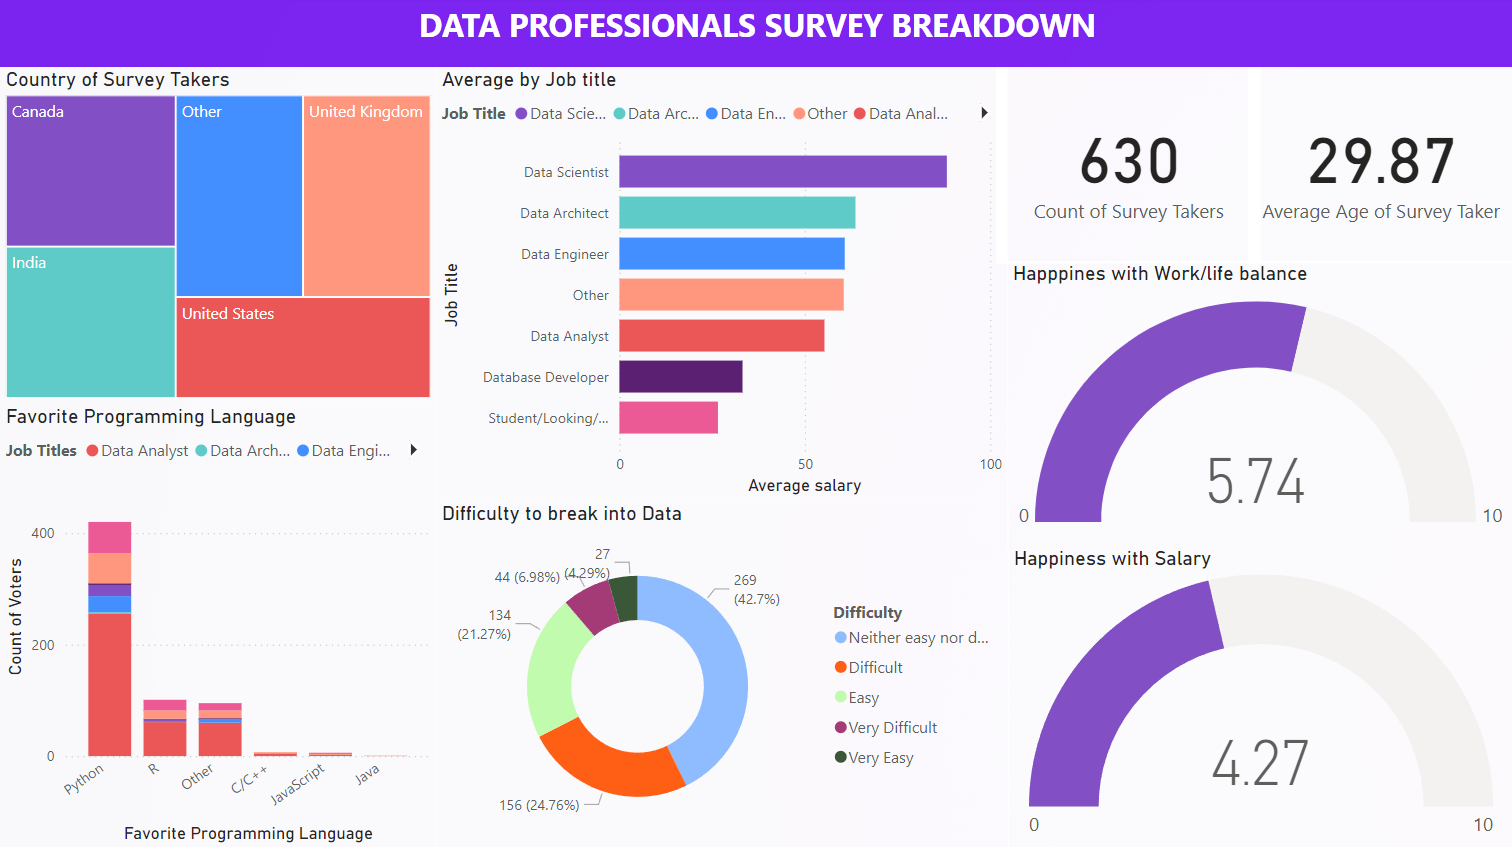

What the dashboard file says about the page in this screenshot:
{"tool":"powerbi","page":{"name":"Page 1","canvas":[1280,720],"ordinal":0},"visuals":[{"type":"textbox","box":[0,0,1280,59.6],"z":0},{"type":"card","fields":{"Values":["CountNonNull(Data Professional Survey.Unique ID)"]},"box":[841.8,59.5,224.3,165.6],"z":1000},{"type":"card","fields":{"Values":["Avg(Data Professional Survey.Q10 - Current Age)"]},"box":[1055,59.2,225,165.8],"z":2000},{"type":"barChart","title":"Average by Job title","fields":{"Category":["Data Professional Survey.Q1 - Which Title Best Fits your Current Role?.1"],"Y":["Avg(Data Professional Survey.AVG salary)"],"Series":["Data Professional Survey.Q1 - Which Title Best Fits your Current Role?.1"]},"box":[368.3,59.2,483.3,366.7],"z":3000},{"type":"columnChart","title":"Favorite Programming Language","fields":{"Category":["Data Professional Survey.Q5 - Favorite Programming Language.1"],"Y":["CountNonNull(Data Professional Survey.Unique ID)"],"Series":["Data Professional Survey.Q1 - Which Title Best Fits your Current Role?.1"]},"box":[0,344.1,368.8,375.9],"z":4000},{"type":"treemap","title":"Country of Survey Takers","fields":{"Group":["Data Professional Survey.Q11 - Which Country do you live in?.1"],"Values":["Count(Data Professional Survey.Q11 - Which Country do you live in?.1)"]},"box":[0,59.4,368.8,284.7],"z":5000},{"type":"gauge","title":"Happpines with Work/life balance","fields":{"Y":["Avg(Data Professional Survey.Q6 - How Happy are you in your Current Position with the following? (Work/Life Balance))"],"MinValue":["Min(Data Professional Survey.Q6 - How Happy are you in your Current Position with the following? (Work/Life Balance))"],"MaxValue":["Max(Data Professional Survey.Q6 - How Happy are you in your Current Position with the following? (Work/Life Balance))"]},"box":[851.3,223.4,428.7,240.6],"z":6000},{"type":"gauge","title":"Happiness with Salary","fields":{"Y":["Avg(Data Professional Survey.Q6 - How Happy are you in your Current Position with the following? (Salary))"],"MinValue":["Min(Data Professional Survey.Q6 - How Happy are you in your Current Position with the following? (Salary))"],"MaxValue":["Max(Data Professional Survey.Q6 - How Happy are you in your Current Position with the following? (Salary))"]},"box":[852.2,464,427.8,256.2],"z":7000},{"type":"donutChart","title":"Difficulty to break into Data","fields":{"Category":["Data Professional Survey.Q7 - How difficult was it for you to break into Data?"],"Y":["CountNonNull(Data Professional Survey.Q7 - How difficult was it for you to break into Data?)"]},"box":[368.6,425.7,483.6,294.3],"z":8000}]}

Visuals, with their boxes in screenshot pixels (x1, y1, x2, y2), scaled from the page's 1280x720 canvas onto the 1512x847 screenshot:
textbox: 0, 0, 1511, 70
card - CountNonNull(Data Professional Survey.Unique ID): 994, 70, 1259, 265
card - Avg(Data Professional Survey.Q10 - Current Age): 1246, 70, 1511, 265
"Average by Job title" barChart: 435, 70, 1006, 501
"Favorite Programming Language" columnChart: 0, 405, 436, 846
"Country of Survey Takers" treemap: 0, 70, 436, 405
"Happpines with Work/life balance" gauge: 1006, 263, 1511, 546
"Happiness with Salary" gauge: 1007, 546, 1511, 846
"Difficulty to break into Data" donutChart: 435, 501, 1007, 846
